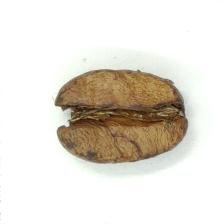NG: (54, 70, 187, 164)
